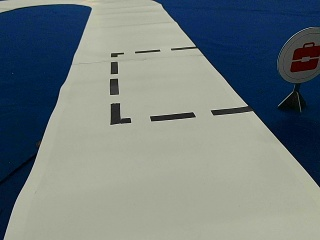company: (277, 27, 318, 83)
